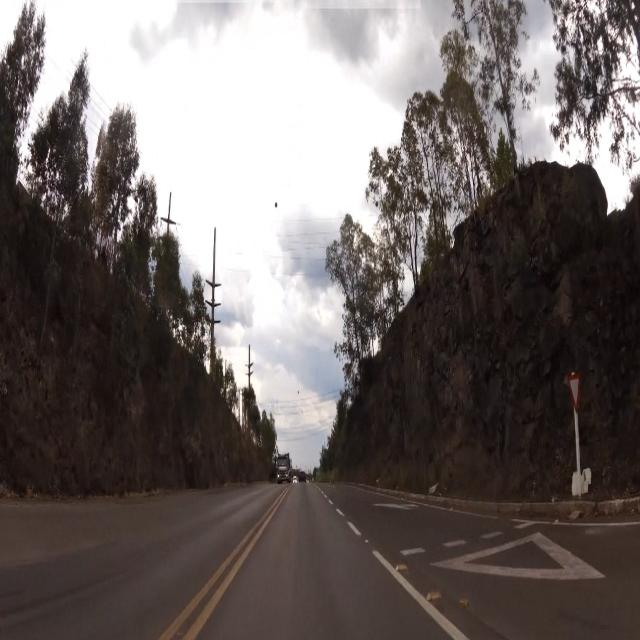R-2: (568, 373, 582, 411)
